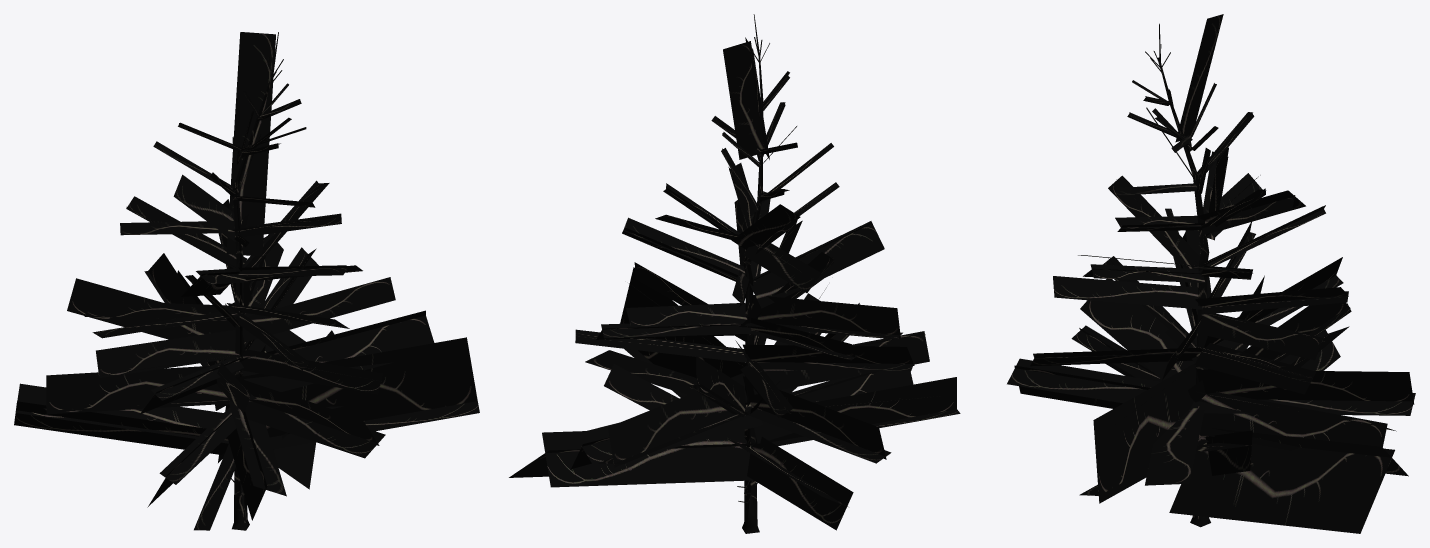
Rendered from ash_spring_winter.glb.
3 renders of one model, left to right at view 1: azimuth 30°, elevation 25°; view 2: azimuth 150°, elevation 25°; view 3: azimuth 270°, elevation 25°, orthographic. The views are drawn at different scales.
Visible parts, largest first — view 1: 2_Leaves, 1_Trunk; view 2: 2_Leaves, 1_Trunk; view 3: 2_Leaves, 1_Trunk.
Part boxes in pixels (bbox=[...]): 2_Leaves: bbox=[14, 32, 479, 530]; 1_Trunk: bbox=[232, 32, 278, 530]; 2_Leaves: bbox=[509, 37, 960, 530]; 1_Trunk: bbox=[742, 14, 763, 533]; 2_Leaves: bbox=[1007, 14, 1415, 533]; 1_Trunk: bbox=[1159, 23, 1210, 527].
Size of the model in its own units: 186 by 250 by 191.
1 material, 1 textured.
